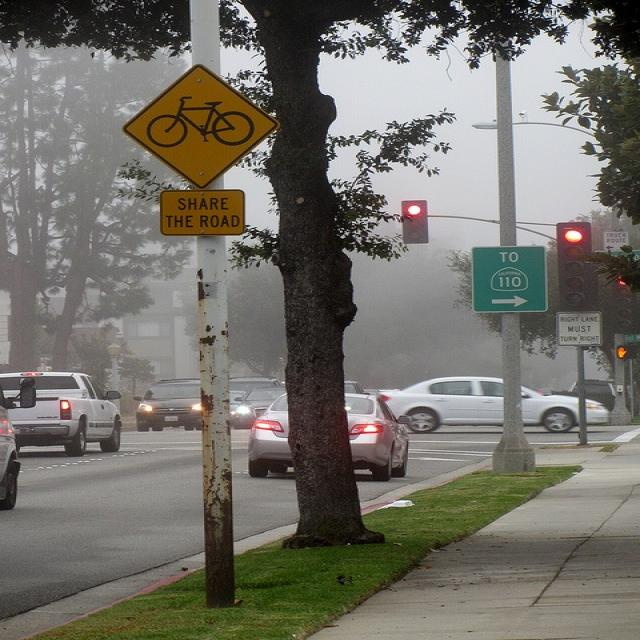car: (247, 388, 410, 479), (375, 376, 609, 431), (0, 377, 37, 507), (132, 378, 199, 429), (229, 385, 287, 426), (566, 376, 614, 410), (225, 375, 284, 388), (228, 389, 247, 413)
pole: (180, 2, 240, 605), (485, 23, 539, 473), (572, 345, 591, 443)
truck: (0, 370, 123, 455)
